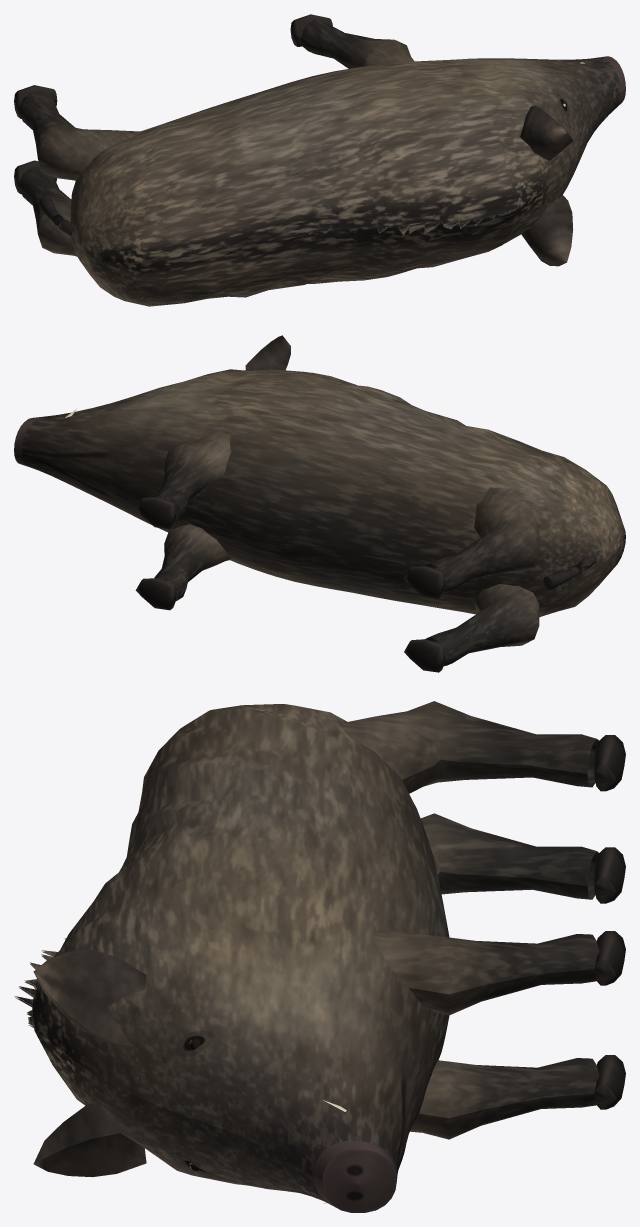
Rendered from boar_boar.obj.
The picture shows the model from 3 angles, top to bottom: view 1: azimuth 30°, elevation 25°; view 2: azimuth 150°, elevation 25°; view 3: azimuth 270°, elevation 25°; orthographic projection. The views are drawn at different scales.
Parts seen in each view (by area): view 1: boar_boar; view 2: boar_boar; view 3: boar_boar.
Part boxes in pixels (left/top/right/bottom): boar_boar: left=14, top=14, right=625, bottom=306; boar_boar: left=14, top=335, right=625, bottom=672; boar_boar: left=15, top=701, right=625, bottom=1212.
Size of the model in its own units: 1.46 by 0.4366 by 0.9064.
1 material, 1 textured.
